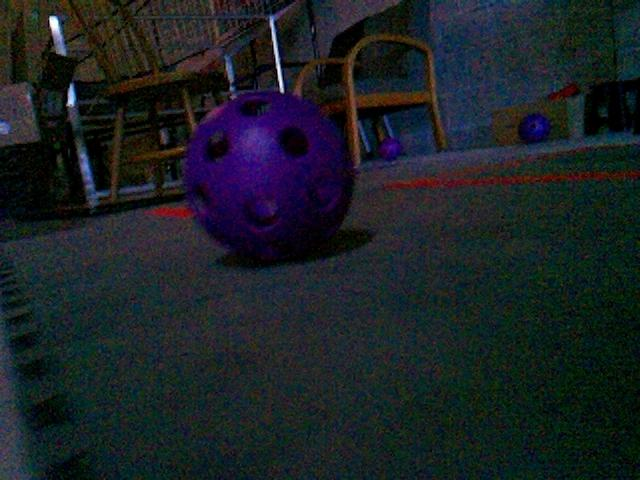Purple: (181, 93, 353, 261), (517, 112, 552, 144), (377, 137, 403, 160)
